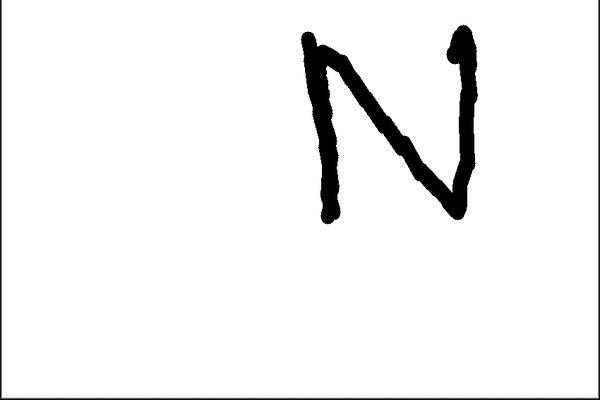N: (294, 17, 483, 229)
